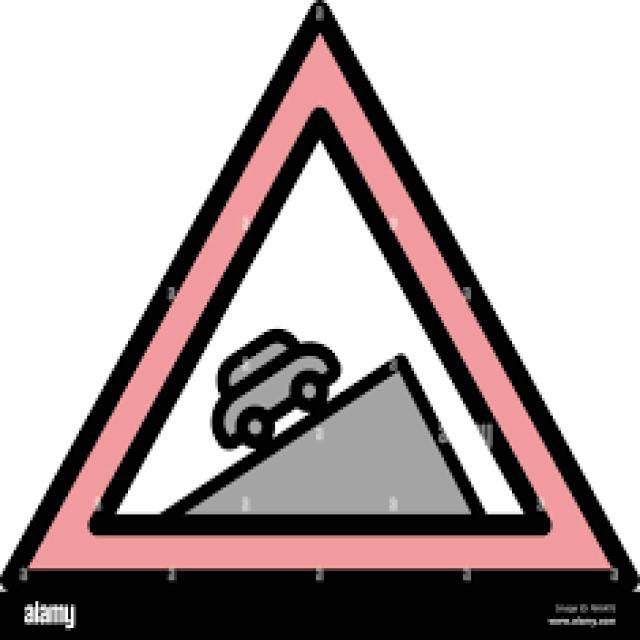steep ascent: (23, 27, 616, 576)
